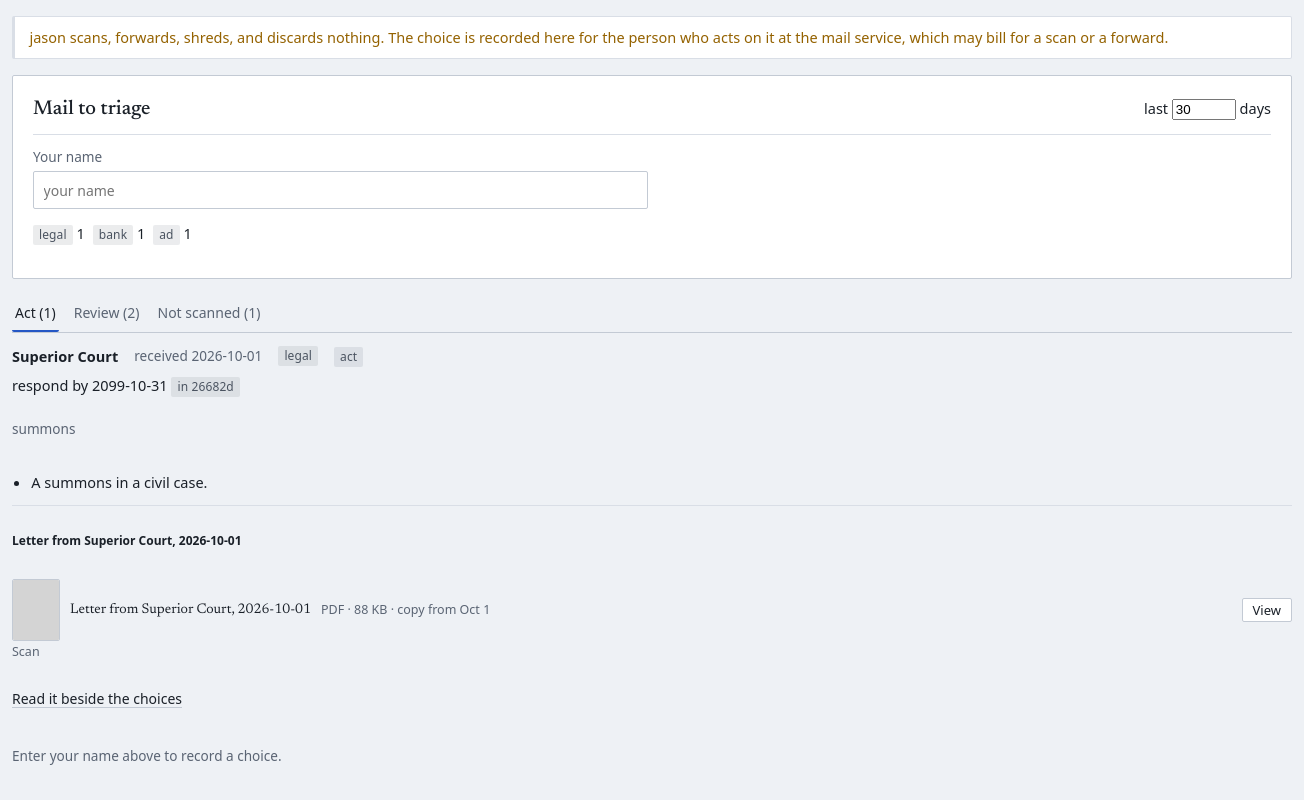
Test: MailTriageView: each letter's document (Doc) › a letter that holds a credential has no document: Held, in words, and nothing to view
Check: the text "Superior Court" is shown, box [12,346,118,367]
Click the tab "Review (2)": (107, 314) [71,295,142,332]
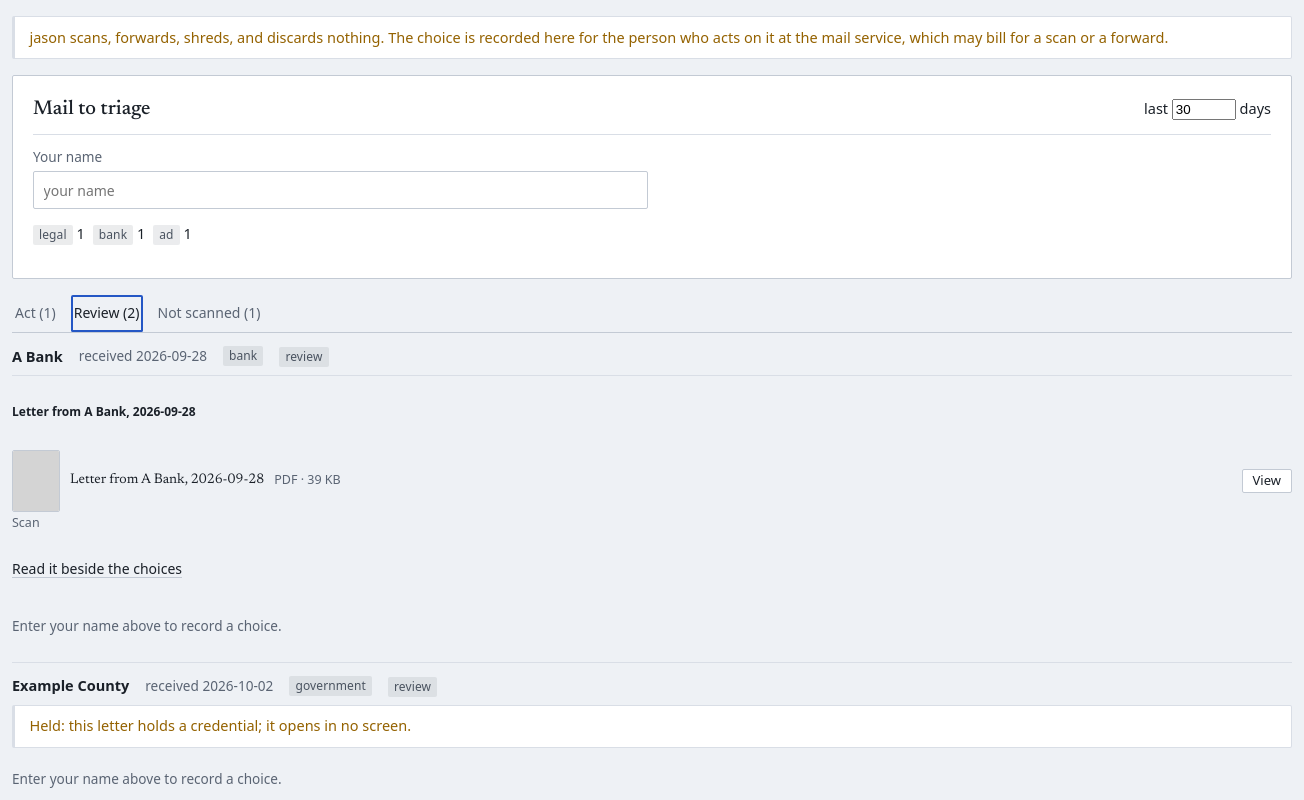
Check: the text "Held: this letter holds a credential; it opens in no screen." is shown, box [12,705,1292,748]
